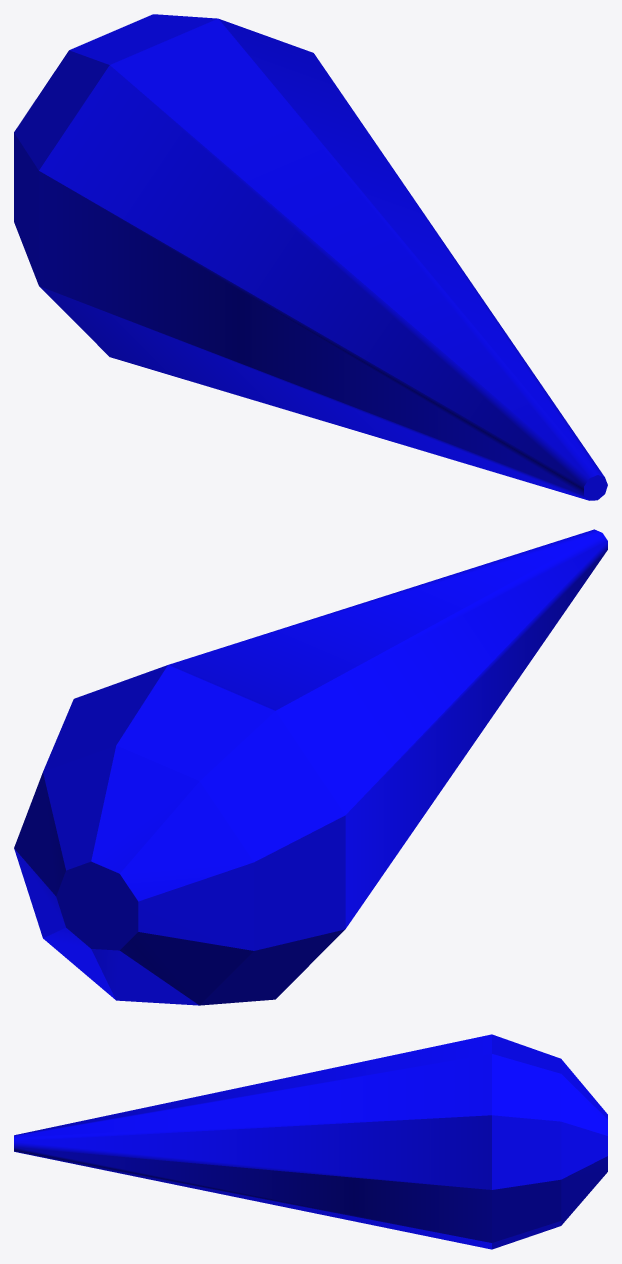
File: Msh_Plasma.FBX
3 renders of one model, top to bottom at view 1: azimuth 30°, elevation 25°; view 2: azimuth 150°, elevation 25°; view 3: azimuth 270°, elevation 25°, orthographic. The views are drawn at different scales.
Parts seen in each view (by area): view 1: Msh_Plasma; view 2: Msh_Plasma; view 3: Msh_Plasma.
Boxes of the visible parts, x1,y1,x2,y2 form: Msh_Plasma: (14,14,607,500); Msh_Plasma: (14,529,607,1005); Msh_Plasma: (14,1034,607,1249).
Size of the model in its own units: 0.7575 by 0.7691 by 2.11.
